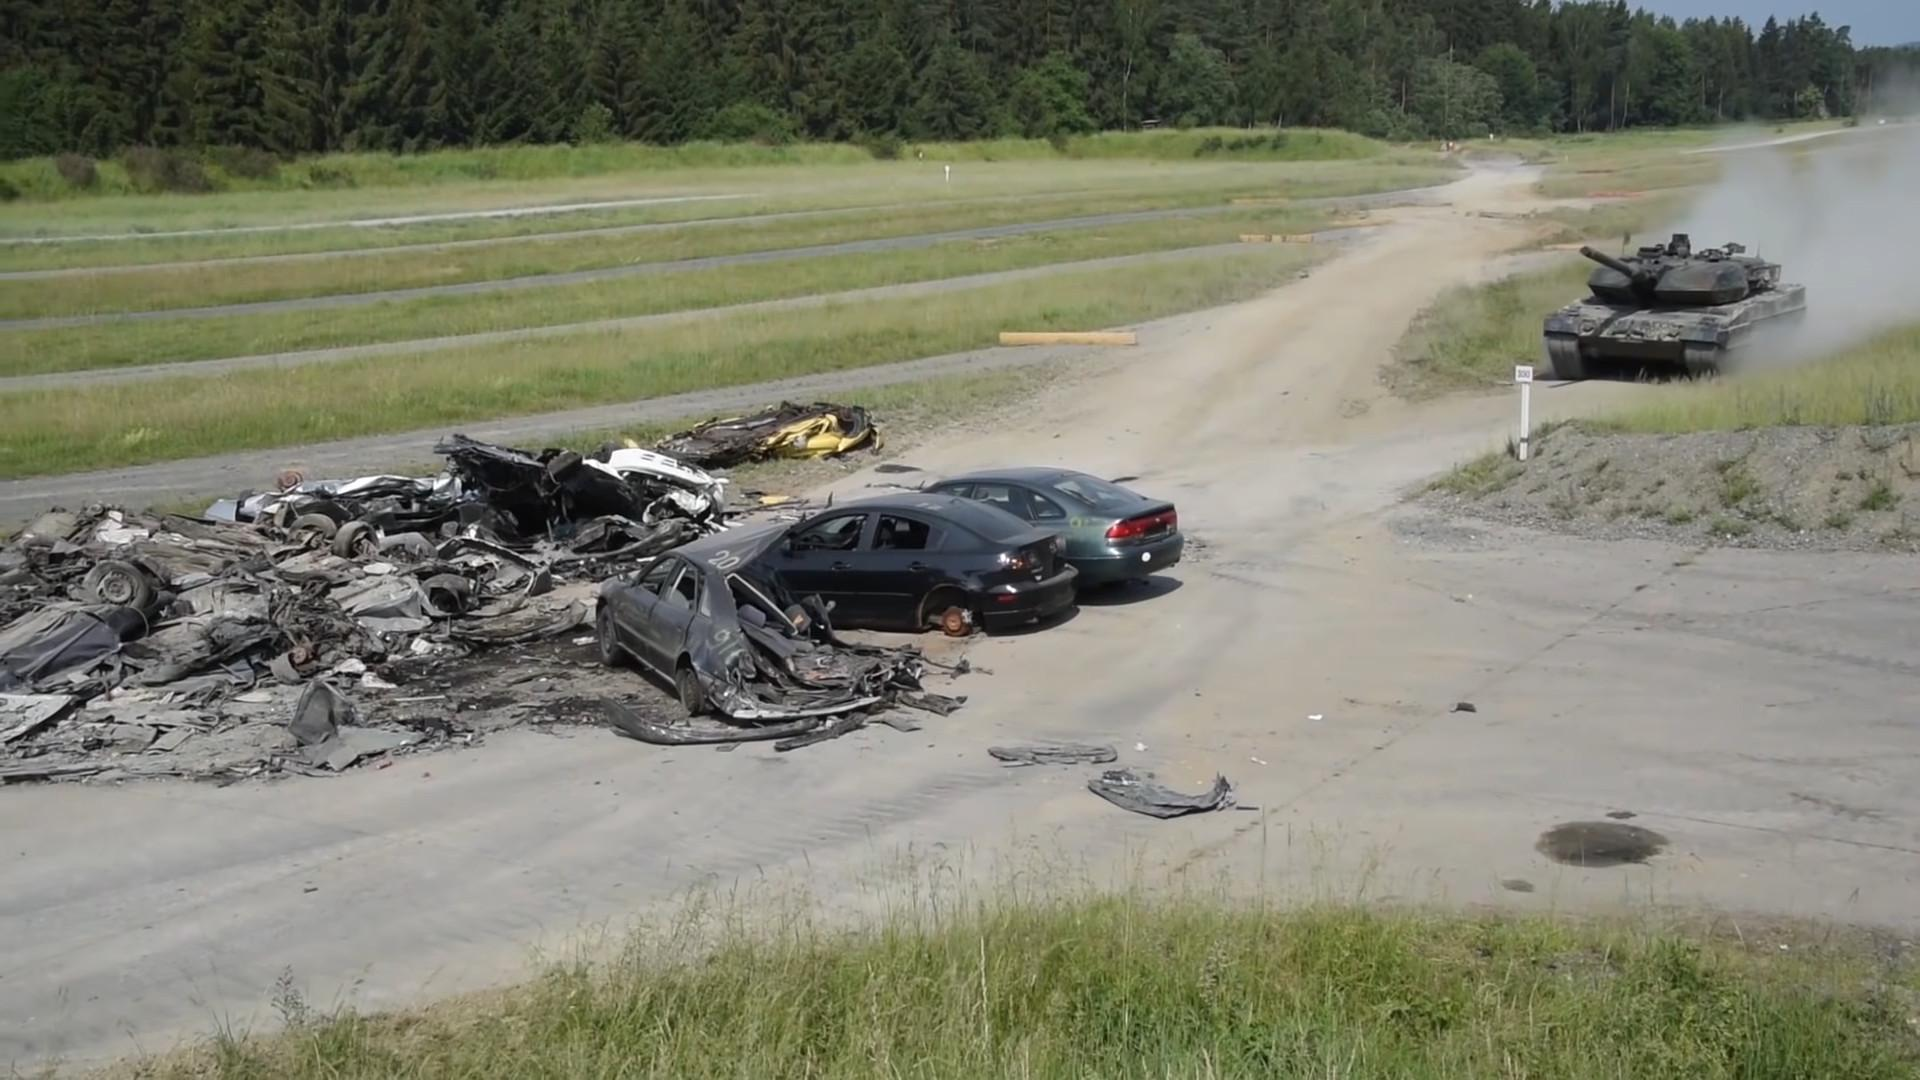tank: (1544, 235, 1808, 381)
